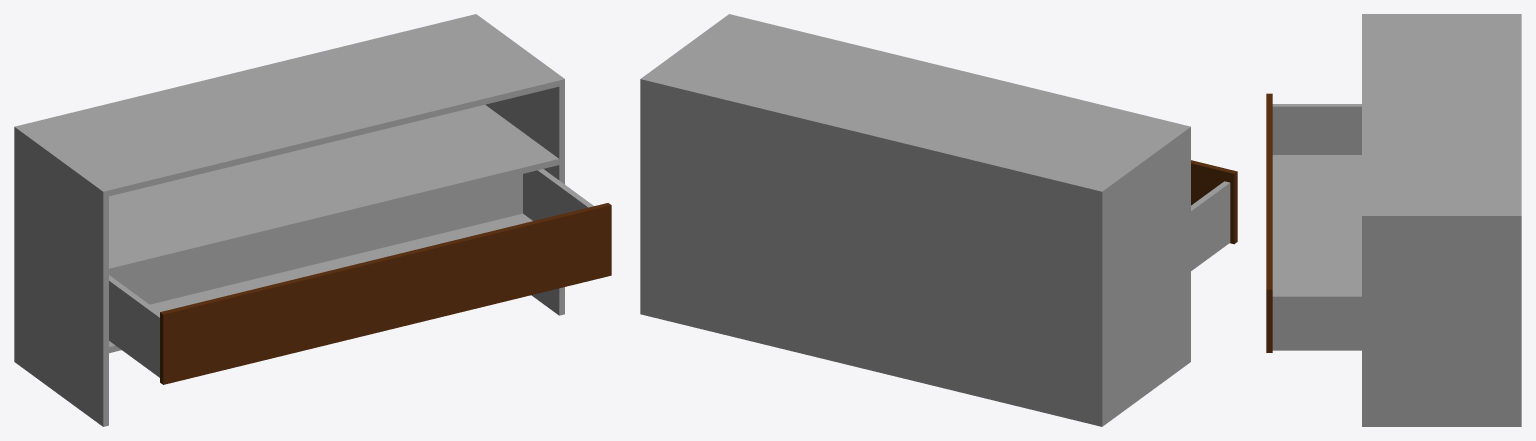
Rendered from meuble_6900cbbe52004.glb.
The picture shows the model from 3 angles, left to right: view 1: azimuth 30°, elevation 25°; view 2: azimuth 150°, elevation 25°; view 3: azimuth 270°, elevation 25°; orthographic projection. The views are drawn at different scales.
Parts seen in each view (by area): view 1: world; view 2: world; view 3: world.
Part boxes in pixels (x1,y1,x2,y2): world: [14, 14, 611, 426]; world: [640, 14, 1237, 426]; world: [1266, 14, 1521, 426].
Bounding box in the file's own units: 1.5 × 0.73 × 0.8.
1 material, 1 textured.
